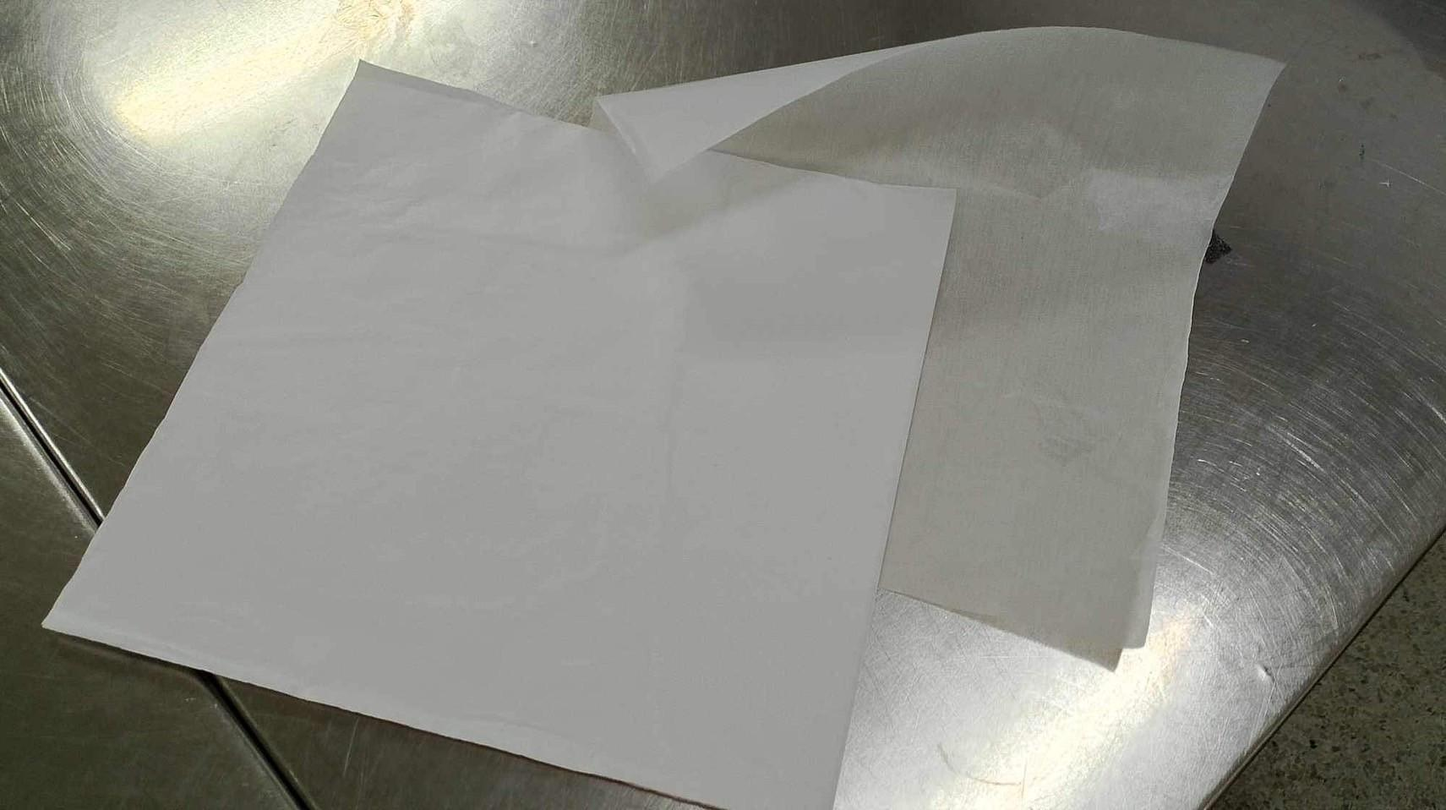Infectious: (39, 56, 960, 807), (597, 23, 1290, 670)
Sharps: (1, 367, 317, 807), (0, 365, 109, 530)
